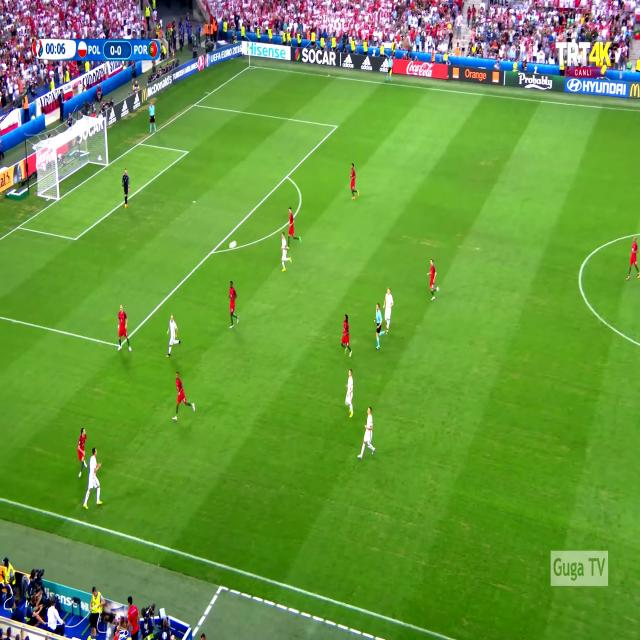Ball: (226, 232, 242, 258)
GoalKeeper: (123, 173, 131, 209)
TEAM 1: (175, 374, 198, 420), (626, 220, 640, 282), (76, 420, 89, 480), (119, 304, 134, 352), (228, 280, 239, 329), (340, 315, 352, 357), (287, 206, 299, 243), (429, 259, 439, 299), (350, 164, 360, 200)
TEAM 2: (88, 437, 104, 511), (343, 360, 359, 421), (360, 406, 378, 460), (166, 313, 181, 358), (281, 233, 293, 273), (385, 284, 393, 334)
